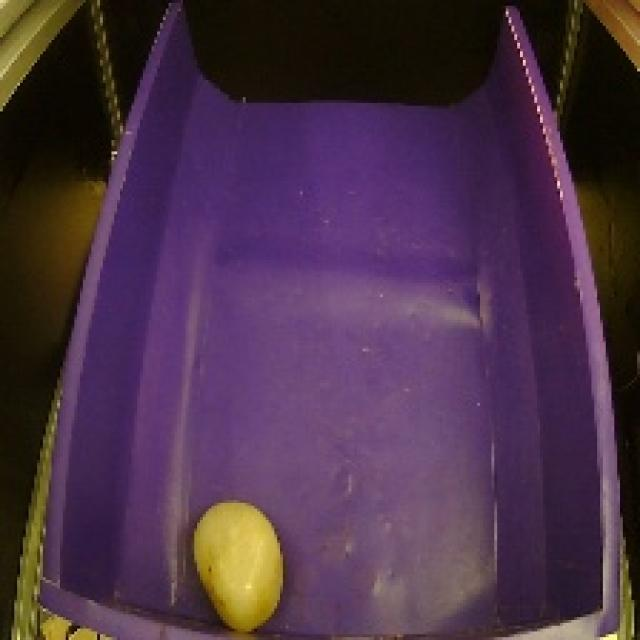cobbles: (178, 489, 296, 639)
